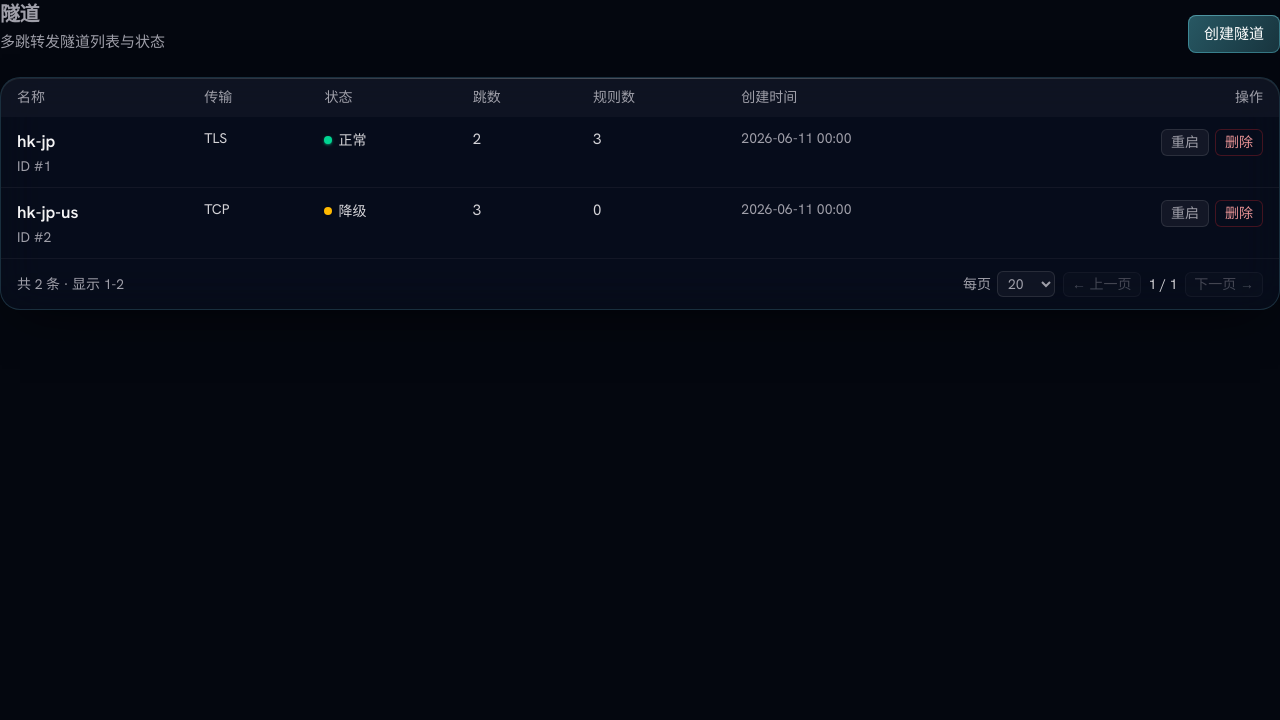
Test case: Tunnels page › rejects duplicate nodes in the chain before submitting
Expected: the link "hk-jp" is shown, [17,130,55,152]
Click the button "创建隧道". click: (1234, 34)
box: [1188,15,1279,53]
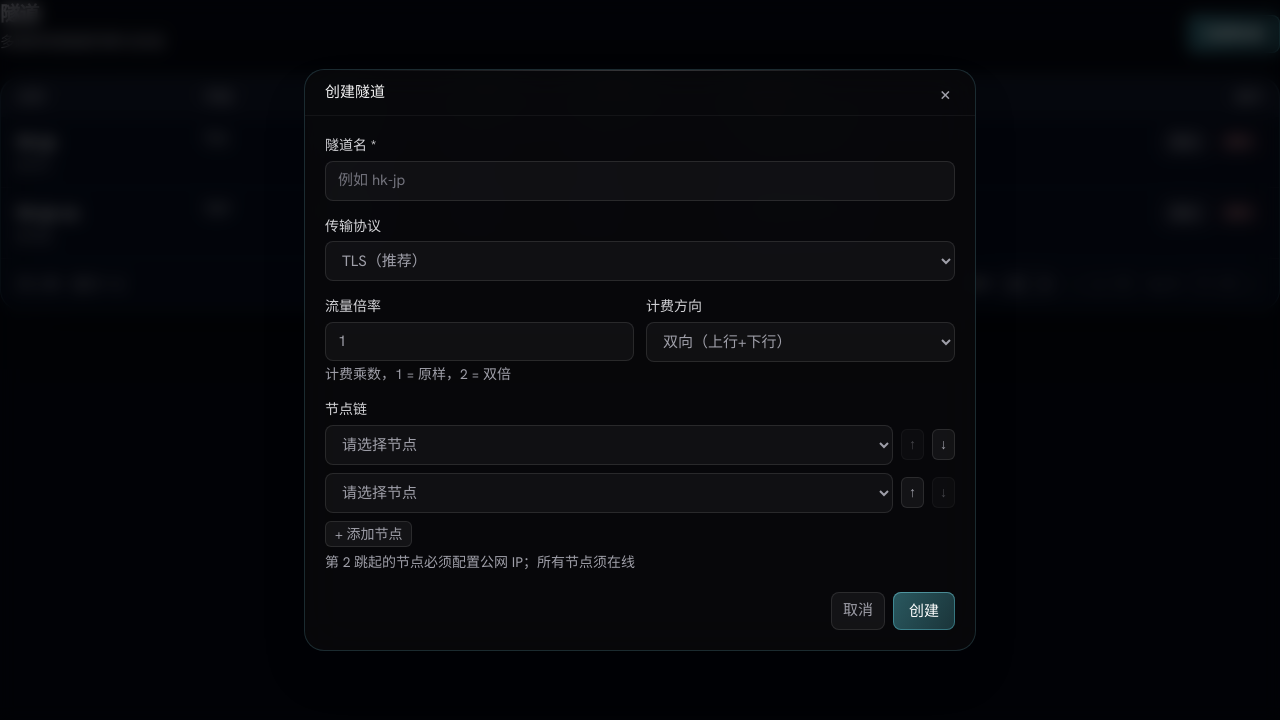
Type "t-dup" into the field labelled "隧道名 *". click: (640, 181)
box: [325,161,955,200]
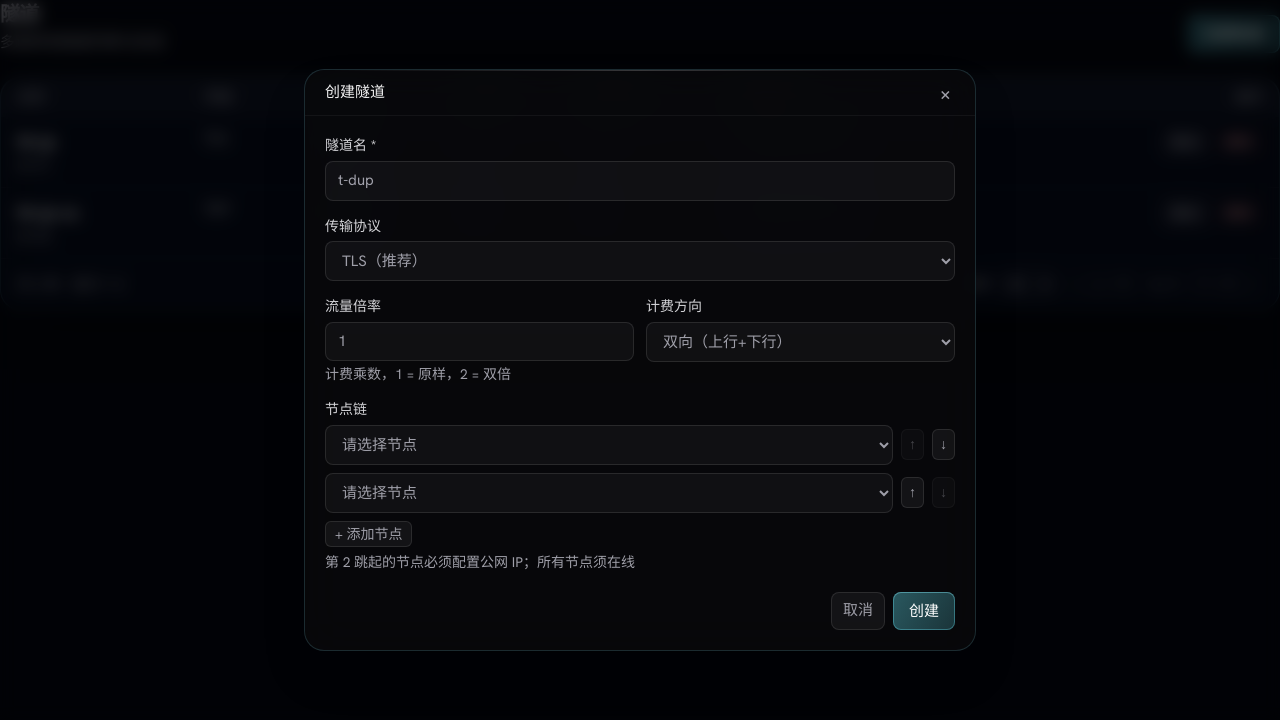
Select "hk-1 (1.1.1.1)" in the dropdown named "节点 #". click: (609, 444)
box: [325,424,893,464]
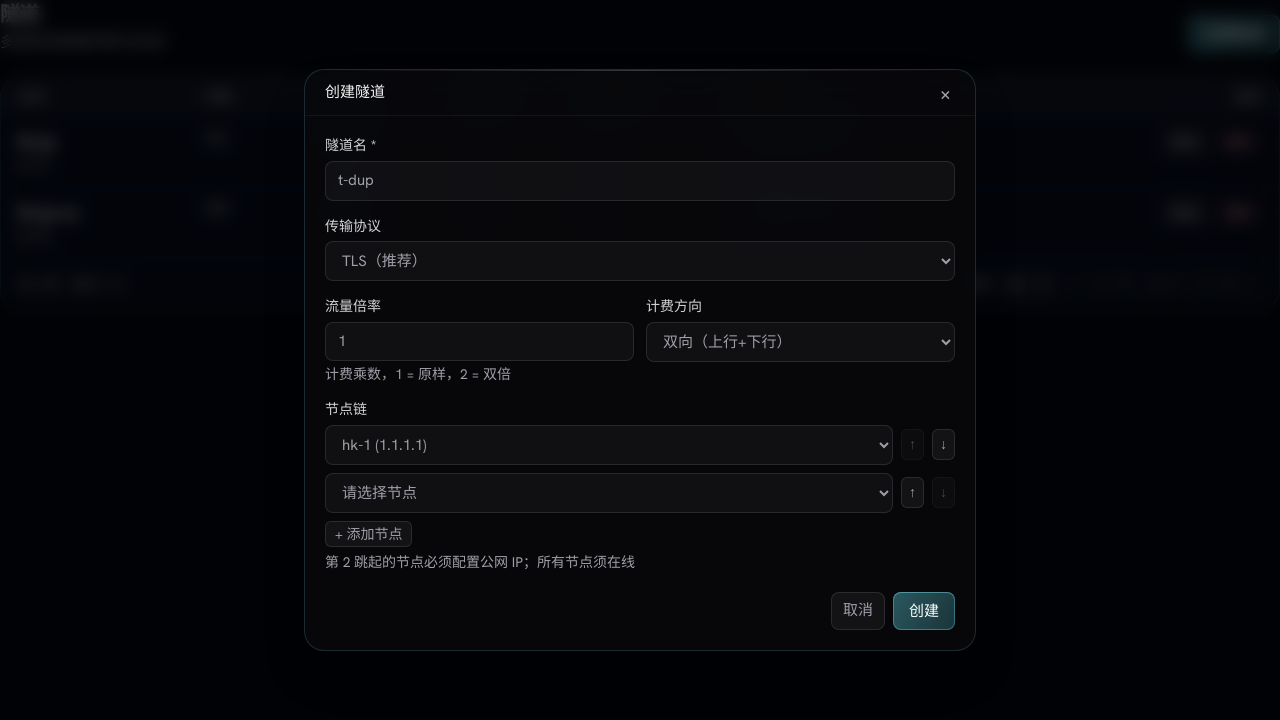
Select "hk-1 (1.1.1.1)" in the dropdown named "节点 #". click: (609, 492)
box: [325,472,893,512]
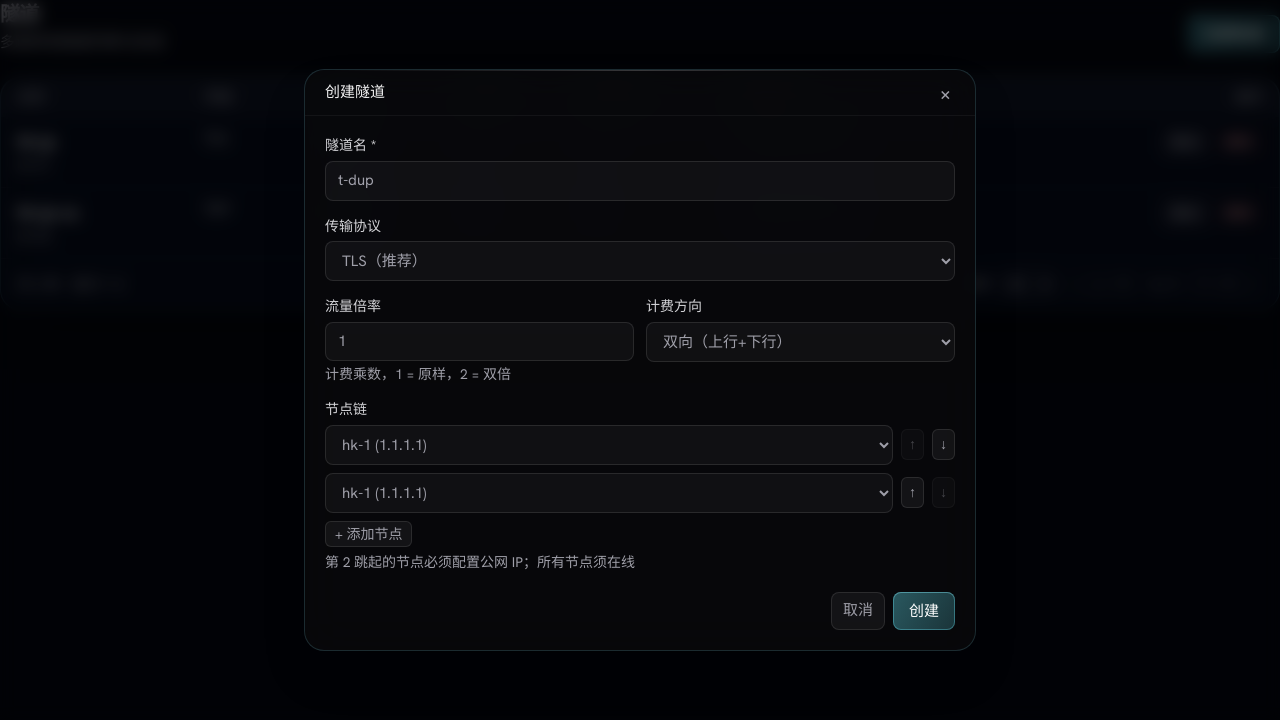
Click the button "创建". click: (924, 611)
box: [893,592,955,630]
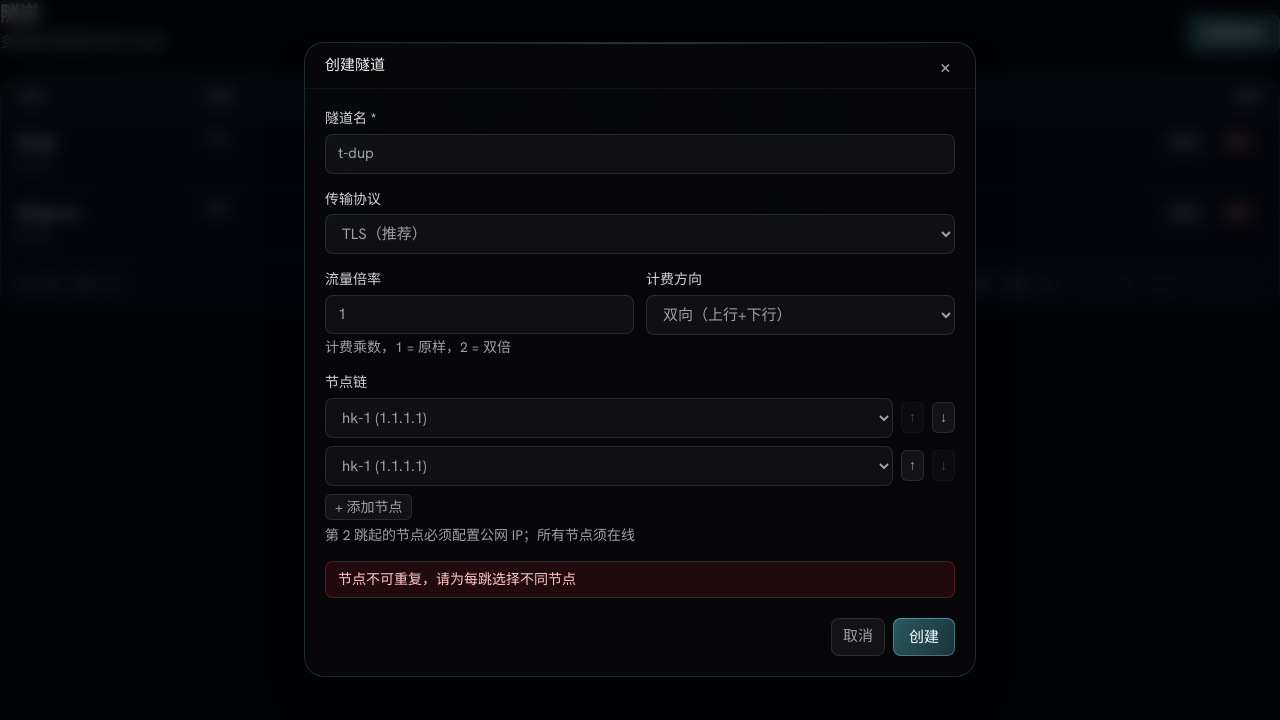
Now the text "节点不可重复，请为每跳选择不同节点" is shown, box [325,561,955,598]
